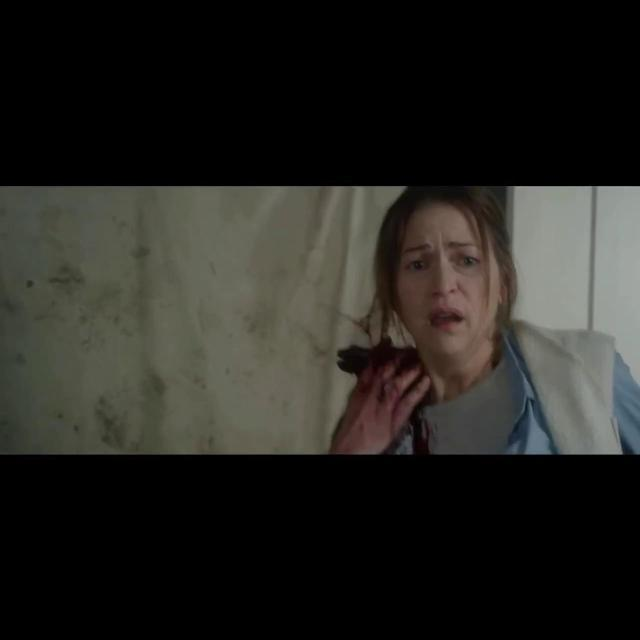blood: (338, 346, 432, 454)
